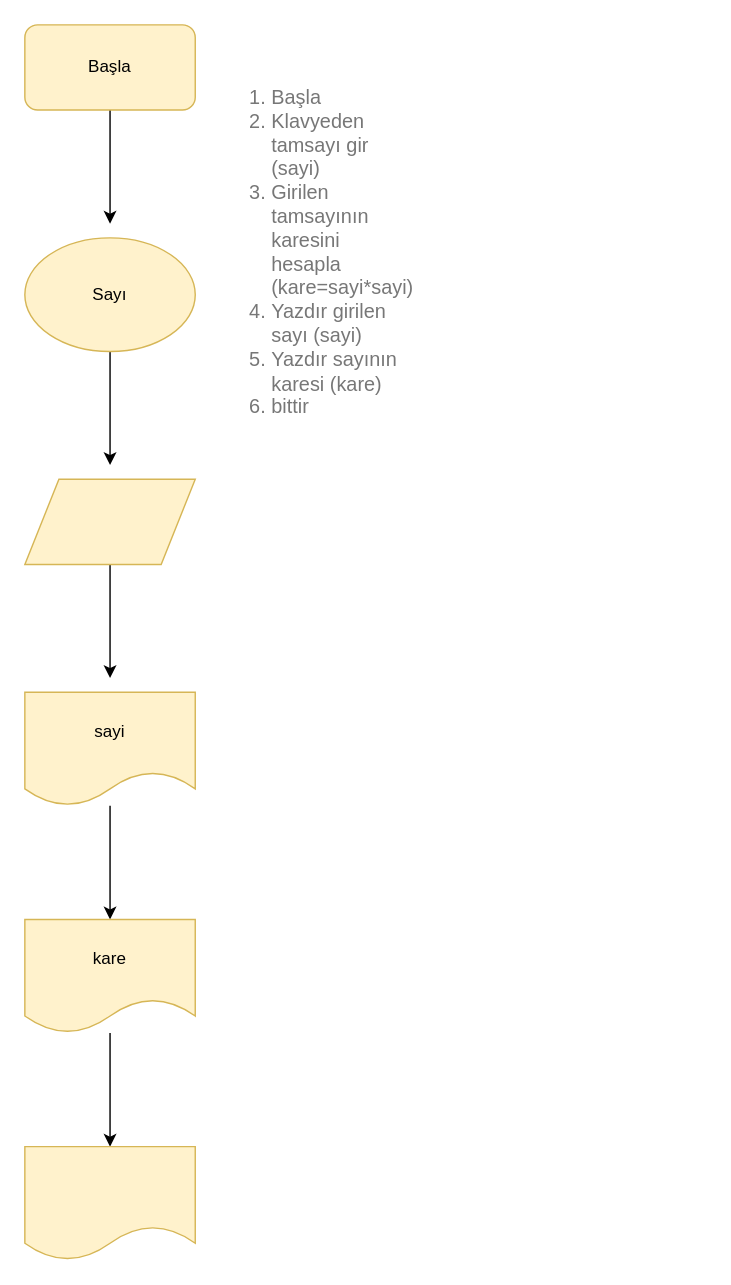
This 731x1285 diagram has some shape labels left out. The shapes that lost their labels are listed below. From the top down, each one's centre as x and y in pixels, then its label:
At [109,521]: "kare=0 kare=sayi*sayi".
At [109,1202]: "Bittir".
